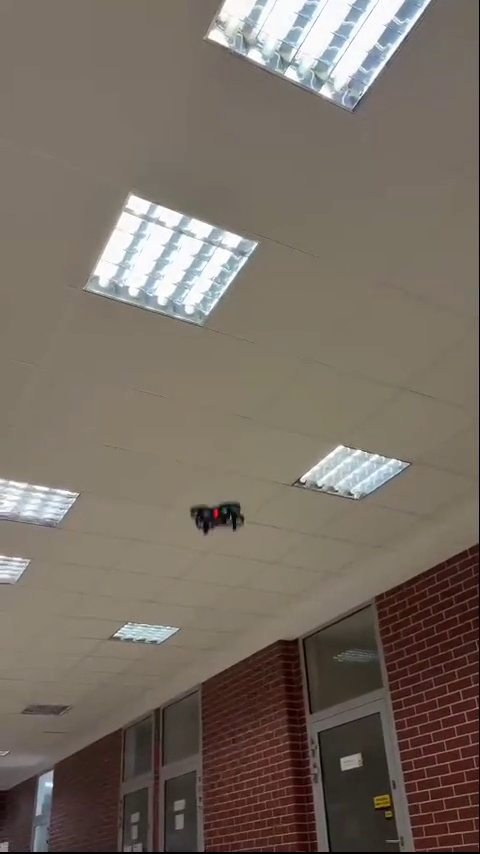drone: (188, 502, 248, 539)
